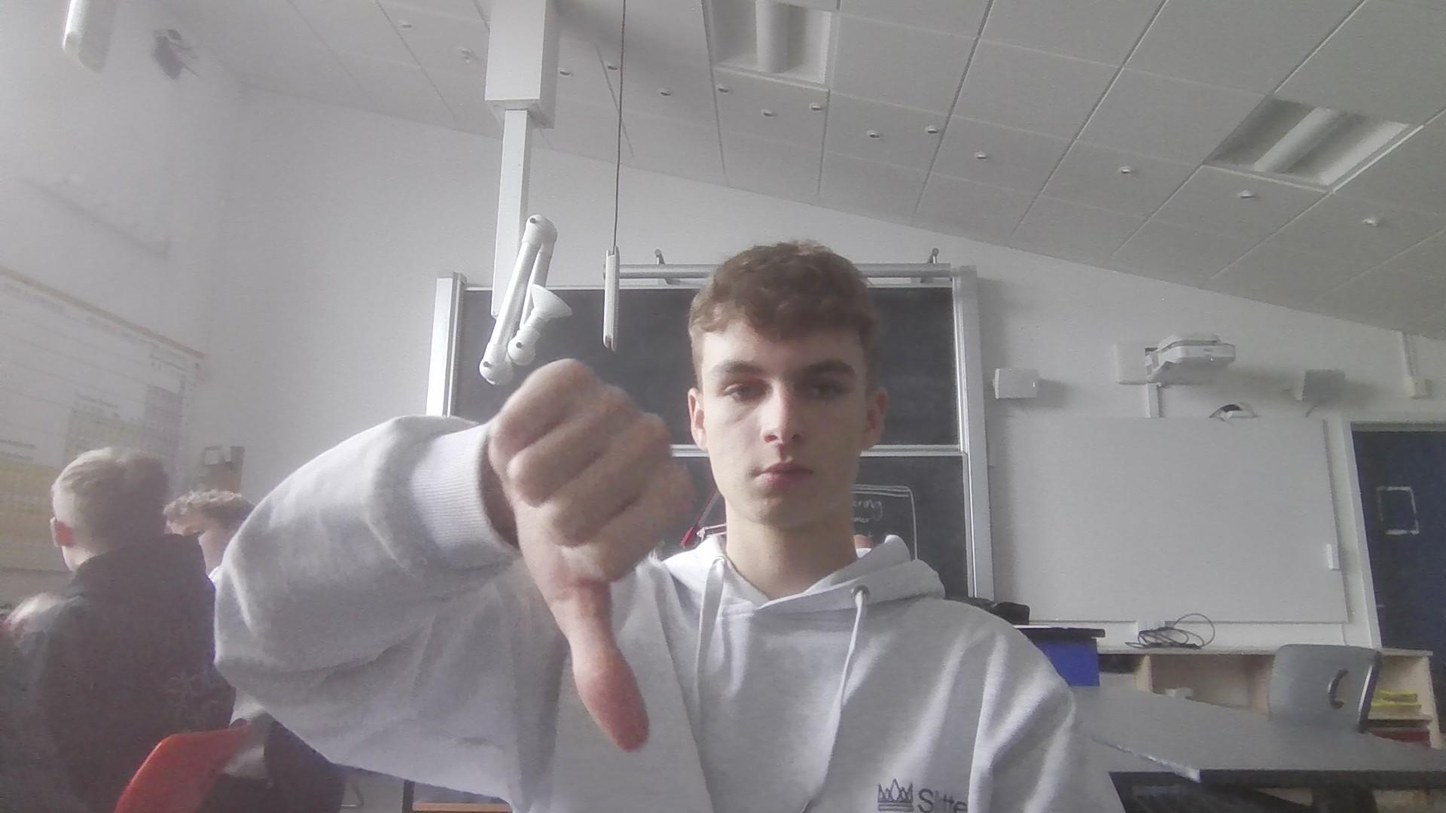thumbs down: (448, 341, 704, 775)
